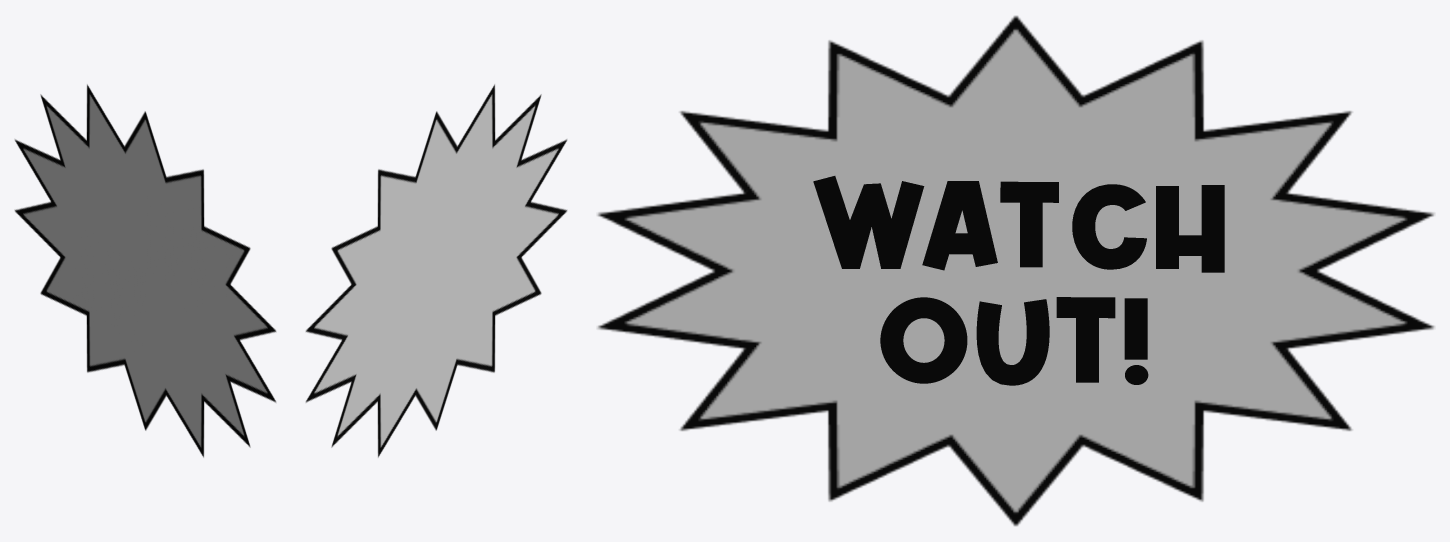
The model's file is watch_out.gltf.
3 views of the same model, side by side, from view 1: azimuth 30°, elevation 25°; view 2: azimuth 150°, elevation 25°; view 3: azimuth 270°, elevation 25° (orthographic). The views are drawn at different scales.
Visible parts, largest first — view 1: Star 6.png; view 2: Star 6.png; view 3: Star 6.png, Text.
Boxes of the visible parts, x1,y1,x2,y2 form: Star 6.png: (14,84,276,457); Star 6.png: (306,84,566,457); Star 6.png: (598,16,1433,525); Text: (813,176,1224,385).
Bounding box in the file's own units: 0.01 × 2.54 × 3.76.
Materials: 2 (1 with a texture image).
